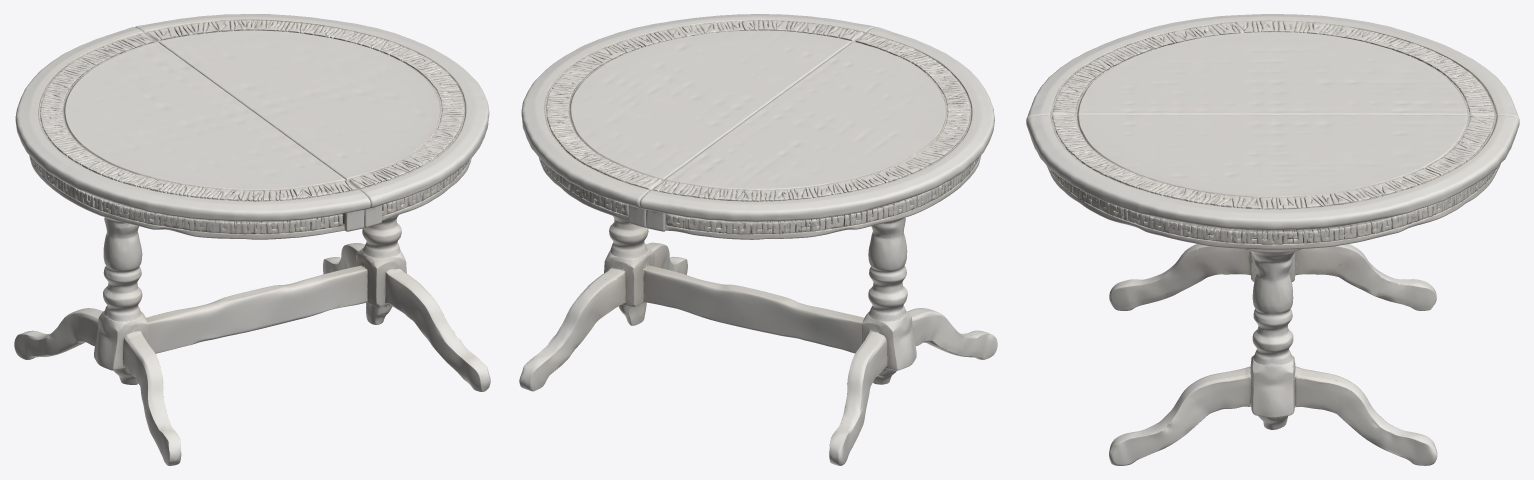
The model's file is Versace.glb.
3 renders of one model, left to right at view 1: azimuth 30°, elevation 25°; view 2: azimuth 150°, elevation 25°; view 3: azimuth 270°, elevation 25°, orthographic. The views are drawn at different scales.
Parts seen in each view (by area): view 1: tripo_node_cab7f1b0-a277-4e97-abc6-f0c08e86fb81; view 2: tripo_node_cab7f1b0-a277-4e97-abc6-f0c08e86fb81; view 3: tripo_node_cab7f1b0-a277-4e97-abc6-f0c08e86fb81.
Part boxes in pixels (bbox=[...]): tripo_node_cab7f1b0-a277-4e97-abc6-f0c08e86fb81: bbox=[14, 14, 490, 465]; tripo_node_cab7f1b0-a277-4e97-abc6-f0c08e86fb81: bbox=[519, 14, 997, 465]; tripo_node_cab7f1b0-a277-4e97-abc6-f0c08e86fb81: bbox=[1026, 14, 1519, 465].
Size of the model in its own units: 0.9796 by 0.5973 by 0.9803.
1 material, 1 textured.
